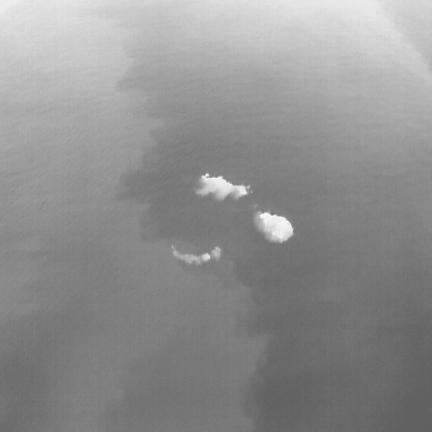flukeprints: (196, 173, 250, 200), (255, 212, 293, 242), (211, 246, 220, 258), (201, 253, 211, 262)
